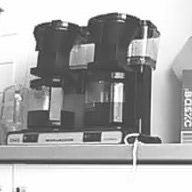not empty coffee: (80, 68, 140, 131)
